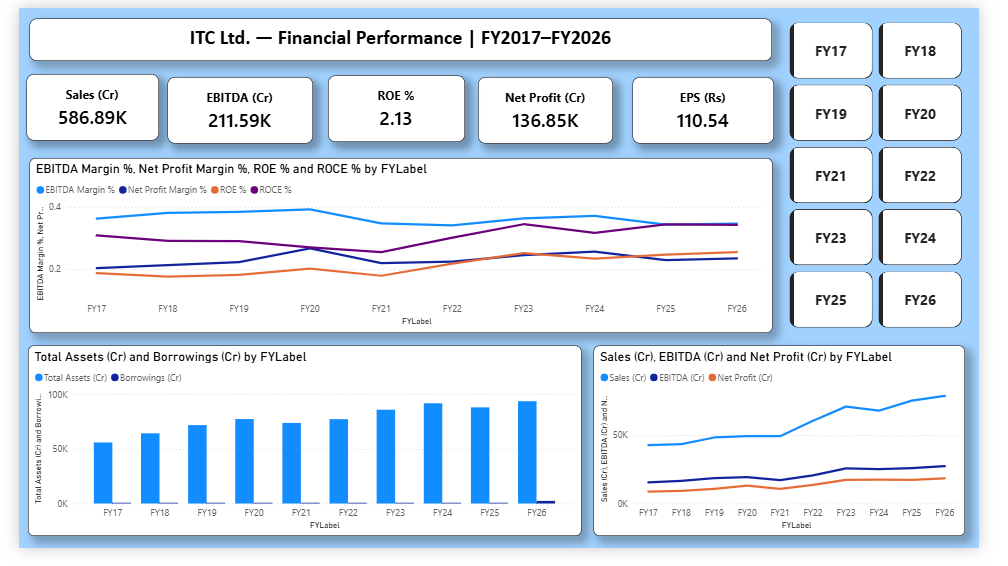

Layout of this report page (visuals, bound fields, positions):
{"tool":"powerbi","page":{"name":"Overview","canvas":[1280,720],"ordinal":0},"visuals":[{"type":"textbox","box":[13.3,13.3,990,56.7],"z":0},{"type":"cardVisual","fields":{"Data":["Table.Sales (Cr)"]},"box":[10,88.3,176.7,88.3],"z":1000},{"type":"cardVisual","fields":{"Data":["Table.EPS (Rs)"]},"box":[817.1,91.4,188.6,88.6],"z":2000},{"type":"cardVisual","fields":{"Data":["Table.EBITDA (Cr)"]},"box":[198.8,91.2,193.8,88.8],"z":3000},{"type":"cardVisual","fields":{"Data":["Table.Net Profit (Cr)"]},"box":[611.4,91.4,180,88.6],"z":4000},{"type":"cardVisual","fields":{"Data":["Table.ROE %"]},"box":[412.9,90,182.9,88.6],"z":5000},{"type":"lineChart","fields":{"Category":["Dim_Date.FYLabel"],"Y":["Table.Sales (Cr)","Table.EBITDA (Cr)","Table.Net Profit (Cr)"]},"box":[10,196.7,421.7,236.7],"z":6000},{"type":"lineChart","fields":{"Category":["Dim_Date.FYLabel"],"Y":["Table.EBITDA Margin %","Table.Net Profit Margin %","Table.ROE %","Table.ROCE %"]},"box":[442.9,200,560,232.9],"z":7000},{"type":"clusteredColumnChart","fields":{"Category":["Dim_Date.FYLabel"],"Y":["Table.Total Assets (Cr)","Table.Borrowings (Cr)"]},"box":[13.3,450,418.3,248.3],"z":8000},{"type":"advancedSlicerVisual","fields":{"Values":["Dim_Date.FYLabel"]},"box":[1021.7,13.3,241.7,420],"z":9000}]}

Visuals, with their boxes in screenshot pixels (x1, y1, x2, y2), scaled from the page's 1280x720 canvas onto the 1008x566 screenshot:
textbox: 10/10/790/55
cardVisual - Table.Sales (Cr): 8/69/147/139
cardVisual - Table.EPS (Rs): 643/72/792/142
cardVisual - Table.EBITDA (Cr): 157/72/309/142
cardVisual - Table.Net Profit (Cr): 481/72/623/142
cardVisual - Table.ROE %: 325/71/469/140
lineChart - Dim_Date.FYLabel x Table.Sales (Cr): 8/155/340/341
lineChart - Dim_Date.FYLabel x Table.EBITDA Margin %: 349/157/790/340
clusteredColumnChart - Dim_Date.FYLabel x Table.Total Assets (Cr): 10/354/340/549
advancedSlicerVisual - Dim_Date.FYLabel: 805/10/995/341
